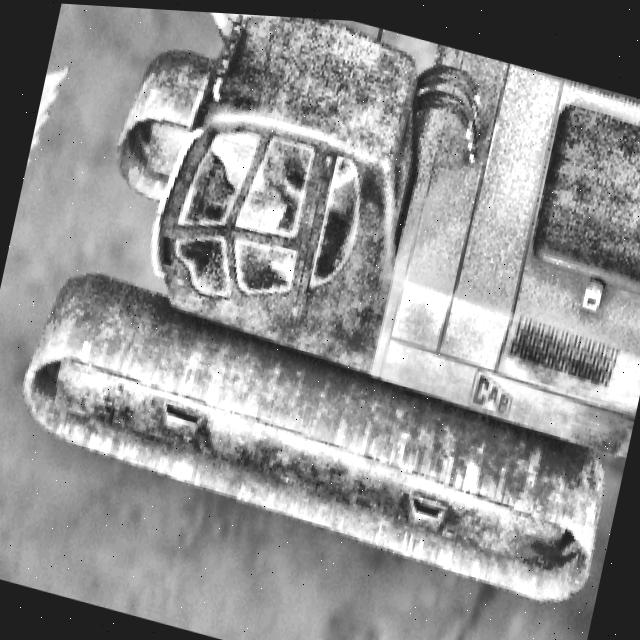excavator: (0, 0, 640, 607)
